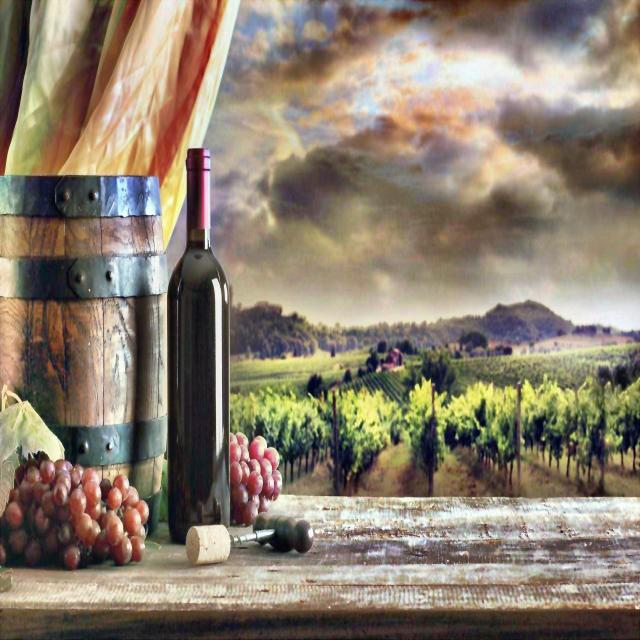cork: (183, 518, 238, 568)
